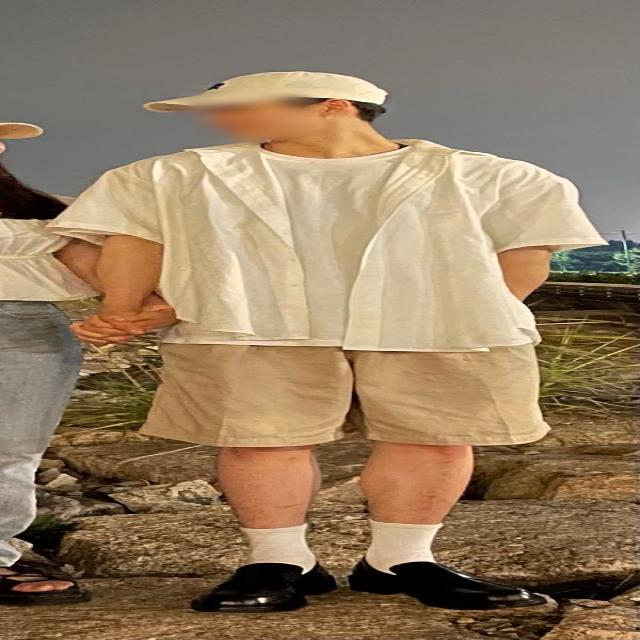shortpants: (139, 331, 544, 451)
shortsleeve: (64, 142, 594, 350)
